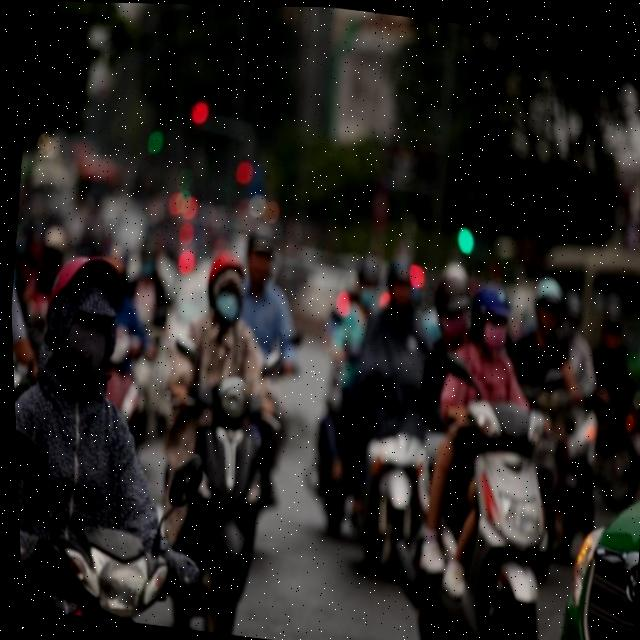motorcycle: (139, 347, 304, 640), (423, 381, 572, 640), (334, 393, 451, 587), (19, 506, 181, 627), (521, 372, 614, 550)
